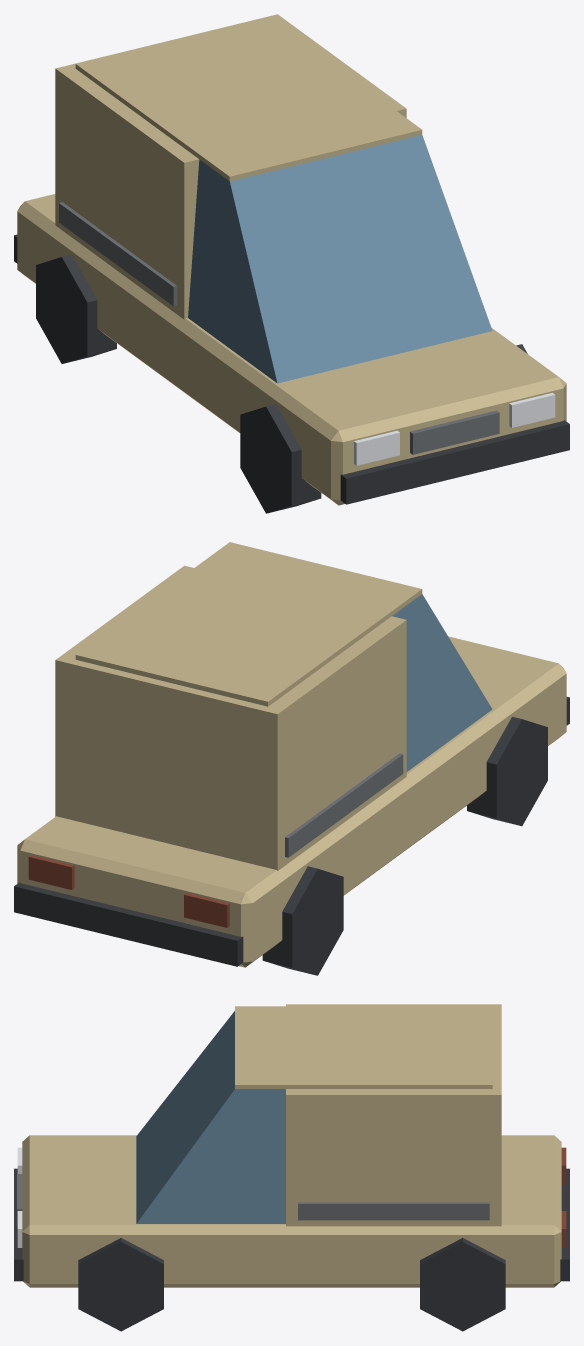
File: car-utility.glb
3 views of the same model, one above another, from view 1: azimuth 30°, elevation 25°; view 2: azimuth 150°, elevation 25°; view 3: azimuth 270°, elevation 25° (orthographic). The views are drawn at different scales.
Visible parts, largest first — view 1: greenhouse, painted-body, painted-roof, solid-cargo-body, bumper-1, tyre-0.57--1, tyre--0.57--1, cargo-trim--1, grille, light-1-1, light-1--1; view 2: solid-cargo-body, painted-body, painted-roof, greenhouse, bumper--1, tyre--0.57--1, tyre-0.57--1, cargo-trim--1, light--1-1, light--1--1; view 3: painted-body, solid-cargo-body, greenhouse, painted-roof, tyre--0.57-1, tyre-0.57-1, cargo-trim-1, bumper--1, bumper-1.
Boxes of the visible parts, left/top/right/bottom form: greenhouse: left=188, top=135, right=492, bottom=383; painted-body: left=17, top=194, right=566, bottom=505; painted-roof: left=75, top=17, right=422, bottom=181; solid-cargo-body: left=55, top=14, right=406, bottom=319; bumper-1: left=340, top=420, right=569, bottom=504; tyre-0.57--1: left=240, top=404, right=321, bottom=513; tyre--0.57--1: left=36, top=254, right=116, bottom=363; cargo-trim--1: left=59, top=202, right=177, bottom=306; grille: left=410, top=410, right=499, bottom=454; light-1-1: left=509, top=393, right=555, bottom=427; light-1--1: left=354, top=430, right=399, bottom=465; solid-cargo-body: left=55, top=565, right=406, bottom=870; painted-body: left=17, top=636, right=566, bottom=967; painted-roof: left=75, top=542, right=422, bottom=706; greenhouse: left=392, top=594, right=492, bottom=771; bumper--1: left=14, top=882, right=243, bottom=966; tyre--0.57--1: left=262, top=866, right=343, bottom=975; tyre-0.57--1: left=467, top=716, right=547, bottom=826; cargo-trim--1: left=285, top=753, right=403, bottom=857; light--1-1: left=28, top=855, right=74, bottom=889; light--1--1: left=184, top=892, right=229, bottom=927; painted-body: left=22, top=1135, right=561, bottom=1287; solid-cargo-body: left=286, top=1004, right=501, bottom=1226; greenhouse: left=136, top=1011, right=285, bottom=1223; painted-roof: left=235, top=1006, right=492, bottom=1088; tyre--0.57-1: left=420, top=1238, right=505, bottom=1331; tyre-0.57-1: left=78, top=1238, right=163, bottom=1331; cargo-trim-1: left=298, top=1202, right=489, bottom=1220; bumper--1: left=560, top=1168, right=569, bottom=1281; bumper-1: left=14, top=1168, right=23, bottom=1281.
Bounding box in the file's own units: 0.825 × 0.86 × 1.85.
